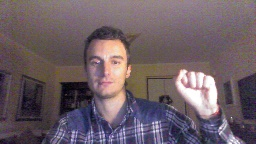Pugno: (171, 67, 219, 110)
